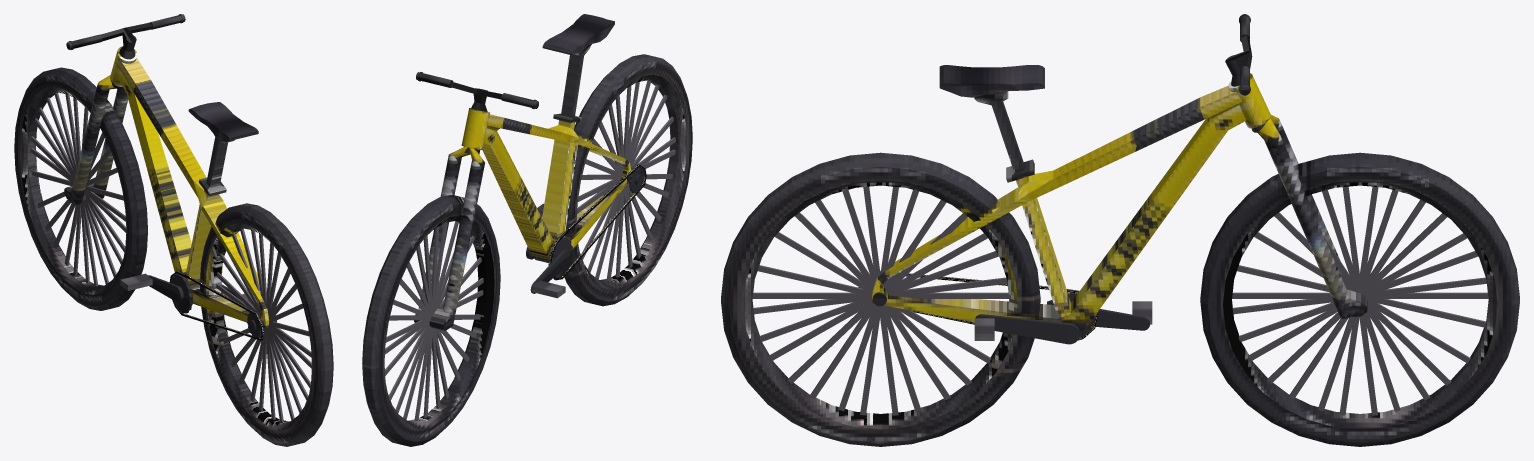
Rendered from low_poly_psx_bicycle.glb.
The picture shows the model from 3 angles, left to right: view 1: azimuth 30°, elevation 25°; view 2: azimuth 150°, elevation 25°; view 3: azimuth 270°, elevation 25°; orthographic projection. The views are drawn at different scales.
Parts seen in each view (by area): view 1: Part2_1, part1_3, part3_1, part1_7, Part3_2, Part1_2, Part2_2, Part4_1, Part1_1, Part2_3, Part4_2; view 2: part1_3, part3_1, Part2_1, part1_7, Part3_2, Part1_2, Part2_2, Part4_1, Part2_3, Part1_1, Part4_2, Part1_6; view 3: part1_3, part3_1, Part2_1, Part3_2, part1_7, Part1_2, Part2_2, Part4_1.
Part boxes in pixels (x1,y1,x2,y2): Part2_1: [110, 46, 268, 328]; part1_3: [14, 67, 147, 310]; part3_1: [200, 203, 333, 446]; part1_7: [30, 93, 126, 286]; Part3_2: [216, 229, 311, 421]; Part1_2: [64, 75, 128, 204]; Part2_2: [188, 102, 258, 141]; Part4_1: [148, 273, 245, 313]; Part1_1: [101, 22, 152, 89]; Part2_3: [169, 271, 264, 340]; Part4_2: [120, 273, 152, 290]; part1_3: [362, 195, 500, 446]; part3_1: [564, 54, 692, 306]; Part2_1: [461, 44, 631, 262]; part1_7: [385, 221, 483, 420]; Part3_2: [577, 80, 675, 280]; Part1_2: [414, 146, 484, 330]; Part2_2: [542, 14, 614, 55]; Part4_1: [526, 237, 572, 293]; Part2_3: [548, 164, 646, 280]; Part1_1: [442, 82, 505, 154]; Part4_2: [531, 280, 565, 298]; Part1_6: [501, 93, 538, 109]; part1_3: [1200, 152, 1519, 446]; part3_1: [721, 152, 1040, 446]; Part2_1: [872, 73, 1270, 332]; Part3_2: [752, 186, 1008, 415]; part1_7: [1232, 186, 1488, 415]; Part1_2: [1251, 115, 1367, 319]; Part2_2: [939, 65, 1044, 97]; Part4_1: [975, 293, 1149, 344].
Size of the model in its own units: 0.4169 by 1.06 by 1.94.
1 material, 1 textured.
